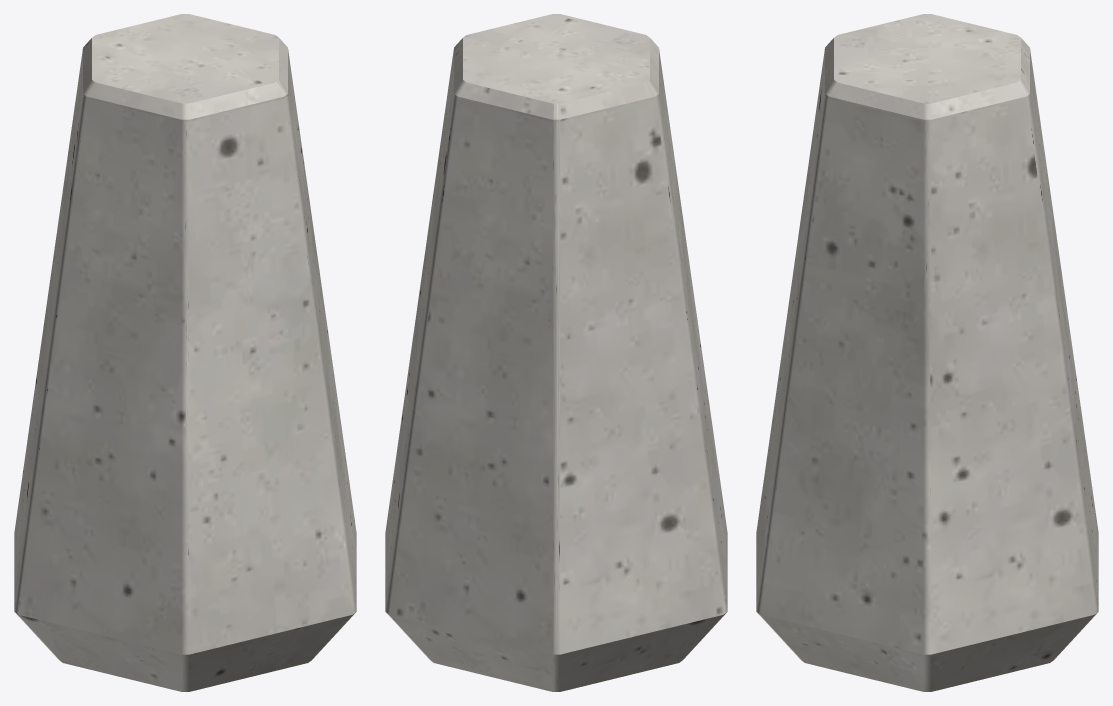
The model's file is hexalith_white_pawn.glb.
3 renders of one model, left to right at view 1: azimuth 30°, elevation 25°; view 2: azimuth 150°, elevation 25°; view 3: azimuth 270°, elevation 25°, orthographic.
Parts seen in each view (by area): view 1: HEXALITH_white_pawn; view 2: HEXALITH_white_pawn; view 3: HEXALITH_white_pawn.
Boxes of the visible parts, left/top/right/bottom form: HEXALITH_white_pawn: left=14, top=14, right=356, bottom=691; HEXALITH_white_pawn: left=385, top=14, right=727, bottom=691; HEXALITH_white_pawn: left=756, top=14, right=1098, bottom=691.
Size of the model in its own units: 0.0306 by 0.0496 by 0.0268.
1 material, 1 textured.
